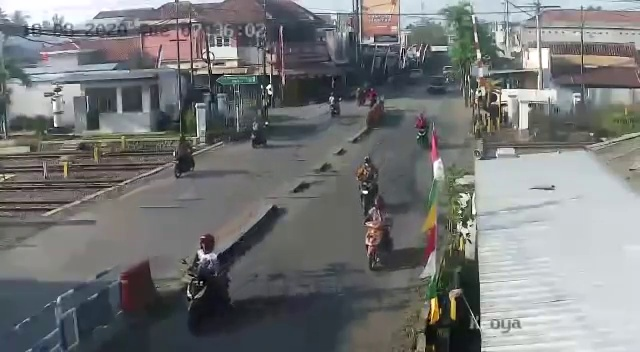car: (425, 74, 446, 96)
motorbike: (187, 232, 231, 337), (365, 195, 394, 271), (171, 134, 196, 179), (358, 154, 378, 210), (415, 114, 430, 152), (250, 118, 267, 148), (328, 92, 343, 118)
